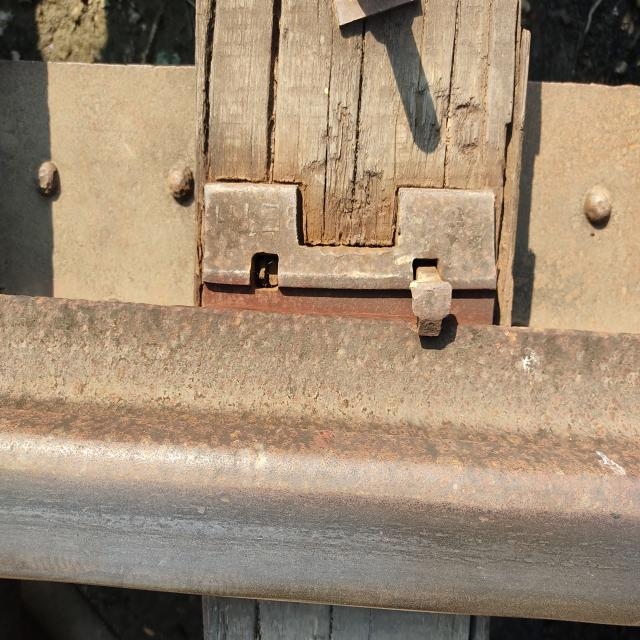fault: (399, 245, 462, 356), (238, 240, 288, 314)
